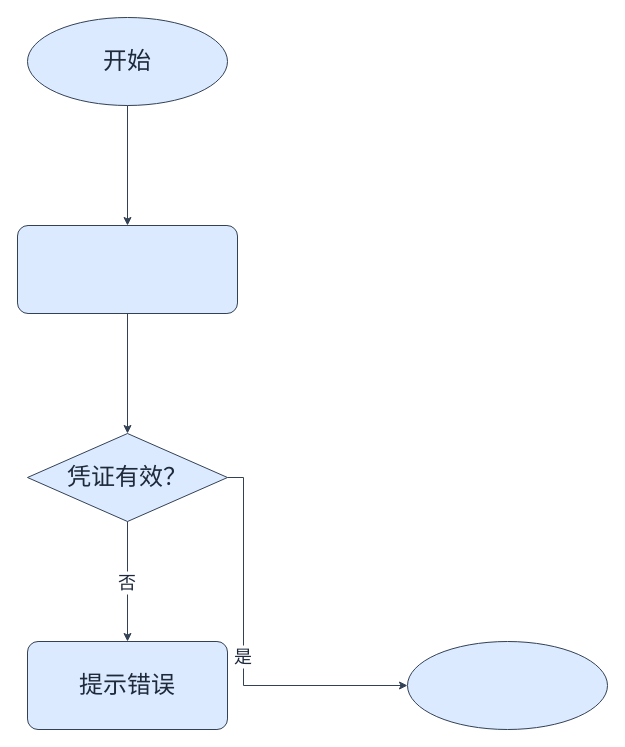
Some shapes in this 625 by 747 pixel diagram are drawn without their labels. Here are the shapes that lost their labels. From the top down, the centre of each, then its label:
point (127, 269): 输入账号和密码
point (507, 685): 进入系统
